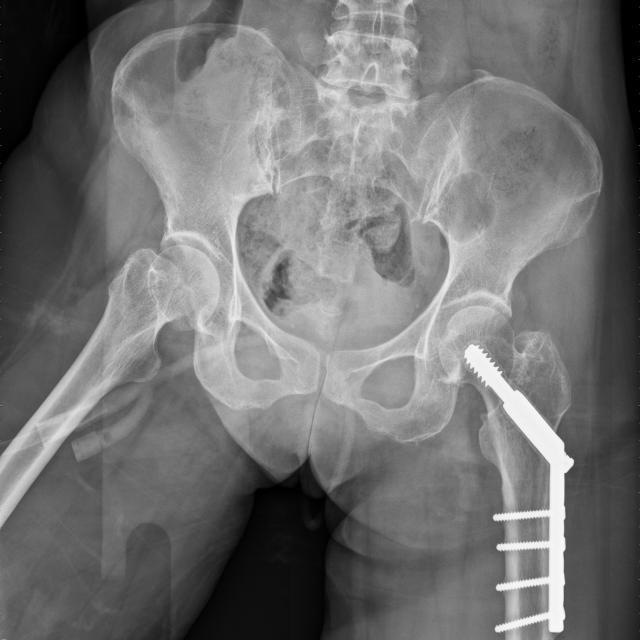normal-left: (438, 305, 572, 640)
normal-right: (0, 245, 219, 527)
